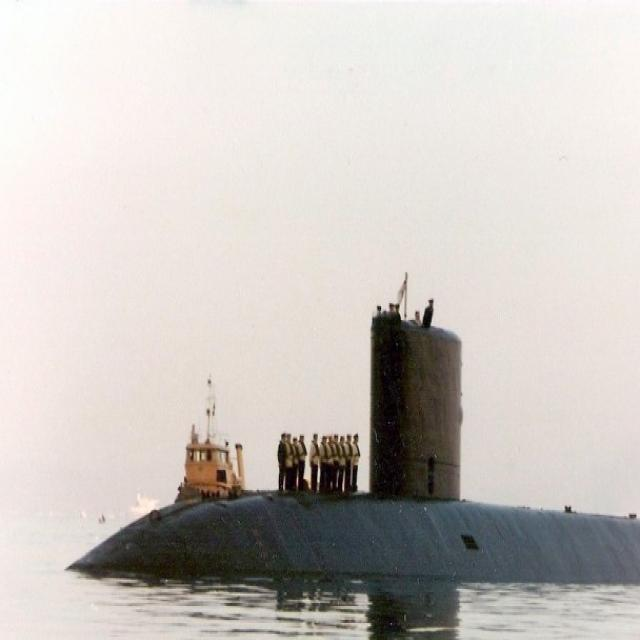submarine: (63, 306, 640, 582)
